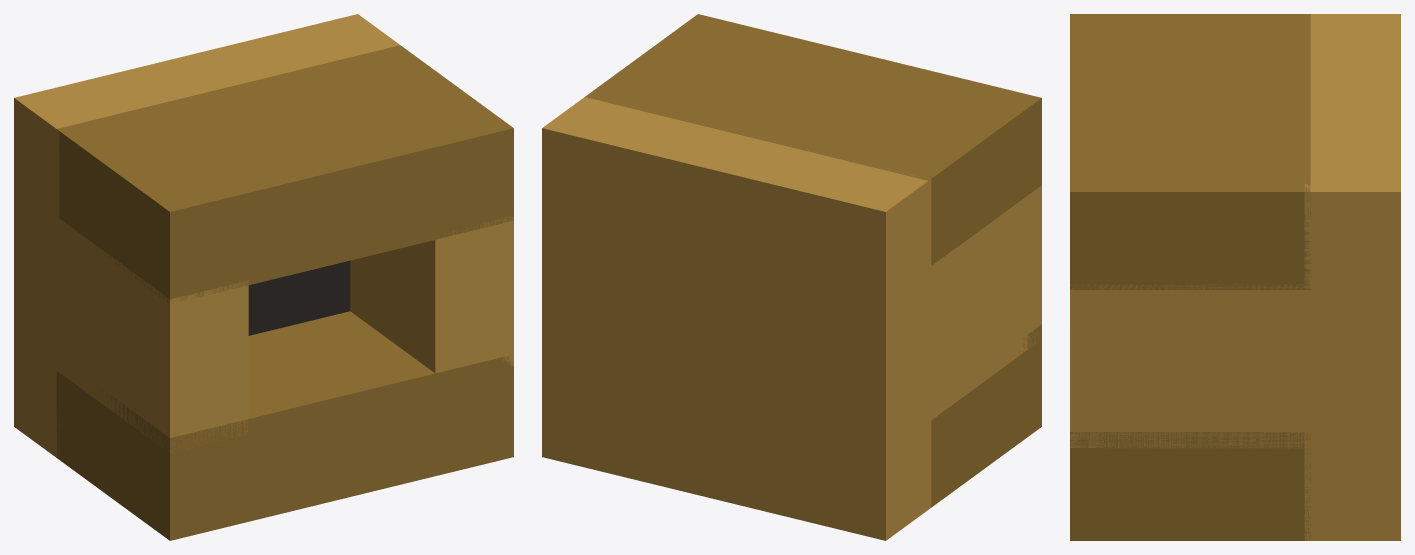
File: key_niche.glb
3 views of the same model, side by side, from view 1: azimuth 30°, elevation 25°; view 2: azimuth 150°, elevation 25°; view 3: azimuth 270°, elevation 25° (orthographic). The views are drawn at different scales.
Visible parts, largest first — view 1: niche lid, niche base, niche back, niche side, niche side.001, emptied niche; view 2: niche back, niche lid, niche side, niche base; view 3: niche lid, niche back, niche side.001, niche base.
Part boxes in pixels (<box>): niche lid: <box>56,45,513,302</box>; niche base: <box>56,311,513,540</box>; niche back: <box>14,14,399,458</box>; niche side: <box>56,217,248,452</box>; niche side.001: <box>350,215,513,373</box>; emptied niche: <box>248,260,350,335</box>; niche back: <box>542,97,931,540</box>; niche lid: <box>585,14,1041,265</box>; niche side: <box>928,185,1041,422</box>; niche base: <box>931,324,1041,507</box>; niche lid: <box>1070,14,1310,289</box>; niche back: <box>1304,14,1400,540</box>; niche side.001: <box>1070,284,1310,448</box>; niche base: <box>1070,432,1310,540</box>.
Size of the model in its own units: 0.7 by 0.64 by 0.55.
